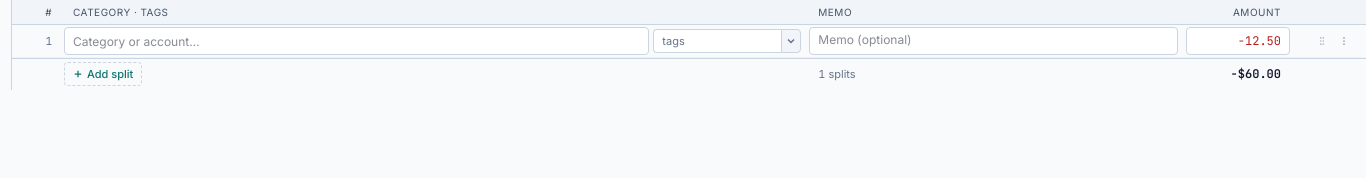
SplitsGrid — remove › will not remove the only posting
Click the button named "Actions for posting 1".
click(1344, 41)  # box [1334,31,1354,51]
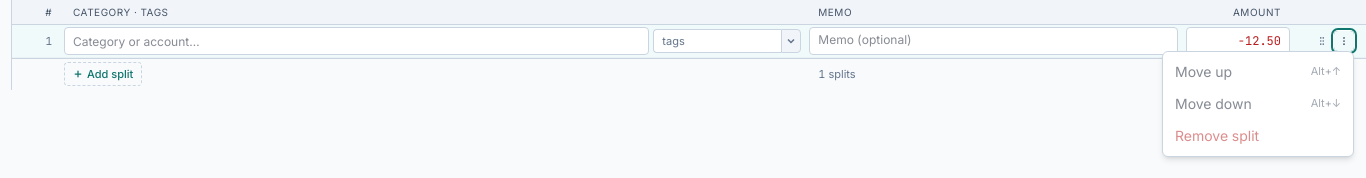
Now the menu item "Remove split" is disabled, box [1163,120,1353,152]
